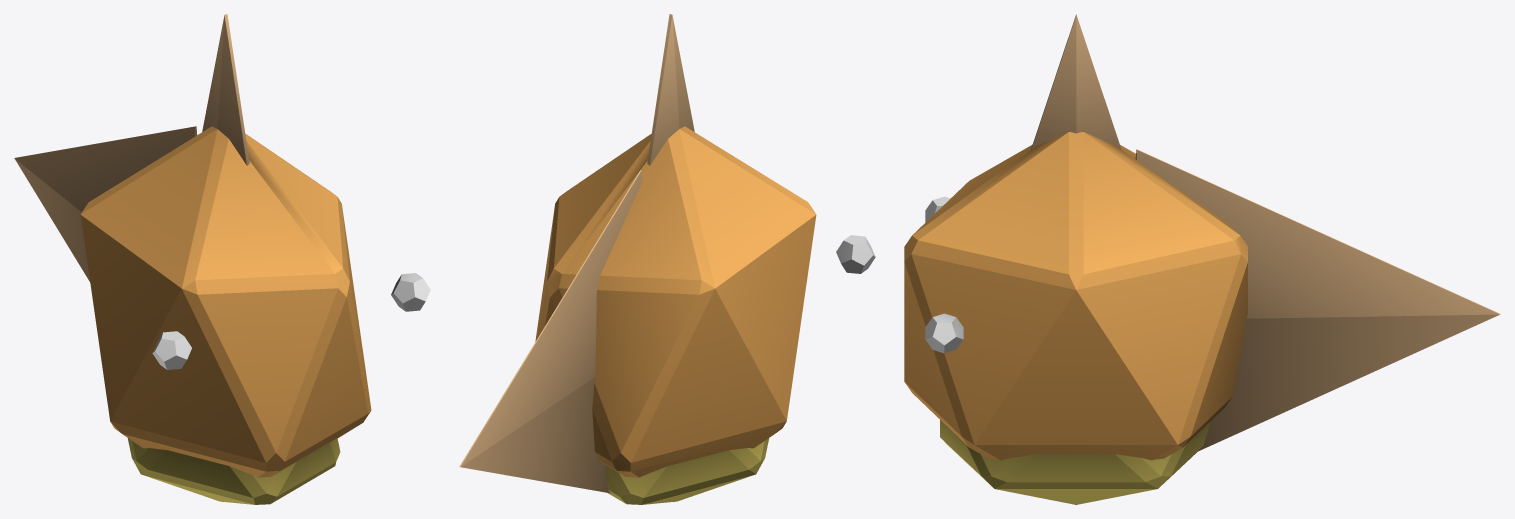
Rendered from FishSun.fbx.
3 renders of one model, left to right at view 1: azimuth 30°, elevation 25°; view 2: azimuth 150°, elevation 25°; view 3: azimuth 270°, elevation 25°, orthographic.
Visible parts, largest first — view 1: Body; view 2: Body; view 3: Body.
Part boxes in pixels (x1=…): Body: x1=14, y1=14, x2=430, y2=504; Body: x1=459, y1=14, x2=875, y2=504; Body: x1=904, y1=14, x2=1500, y2=504.
Bounding box in the file's own units: 0.3078 × 0.5228 × 0.5789.
